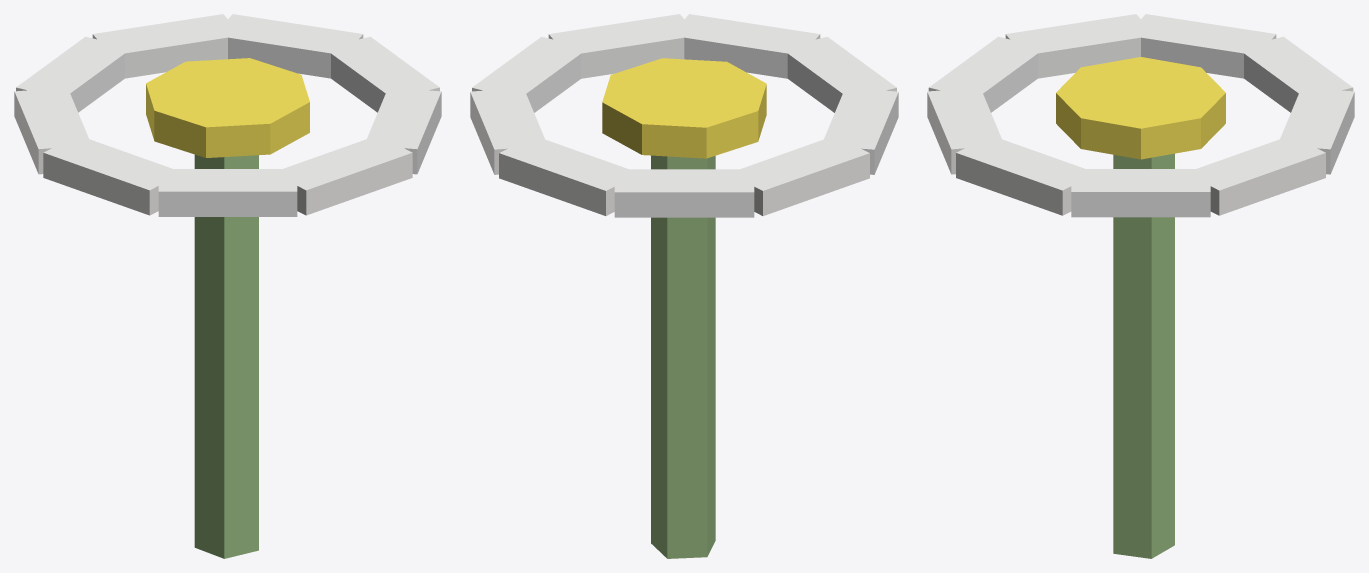
The model's file is flower_daisy.glb.
The picture shows the model from 3 angles, left to right: view 1: azimuth 30°, elevation 25°; view 2: azimuth 150°, elevation 25°; view 3: azimuth 270°, elevation 25°; orthographic projection.
Visible parts, largest first — view 1: Flower_Daisy; view 2: Flower_Daisy; view 3: Flower_Daisy.
Boxes of the visible parts, x1,y1,x2,y2 form: Flower_Daisy: [14, 14, 441, 558]; Flower_Daisy: [470, 14, 898, 558]; Flower_Daisy: [927, 14, 1354, 558].
Size of the model in its own units: 0.2724 by 0.323 by 0.2766.
